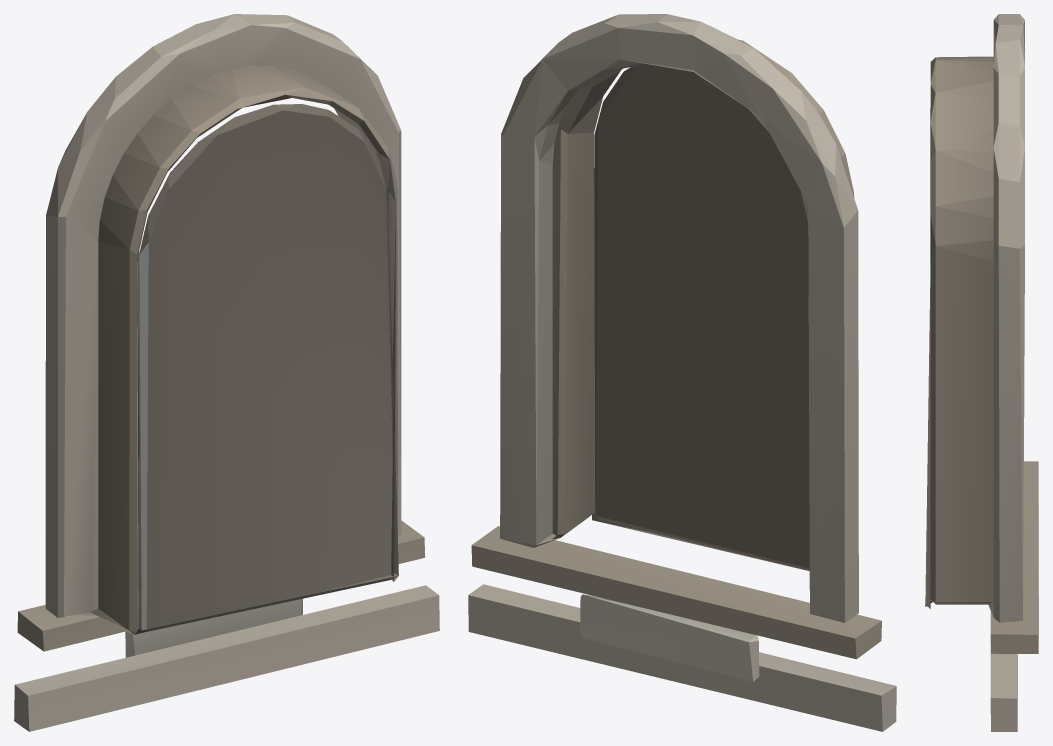
Rendered from niche_hero_low.glb.
3 renders of one model, left to right at view 1: azimuth 30°, elevation 25°; view 2: azimuth 150°, elevation 25°; view 3: azimuth 270°, elevation 25°, orthographic. The views are drawn at different scales.
Bounding box in the file's own units: 0.8423 × 1.28 × 0.2158.
